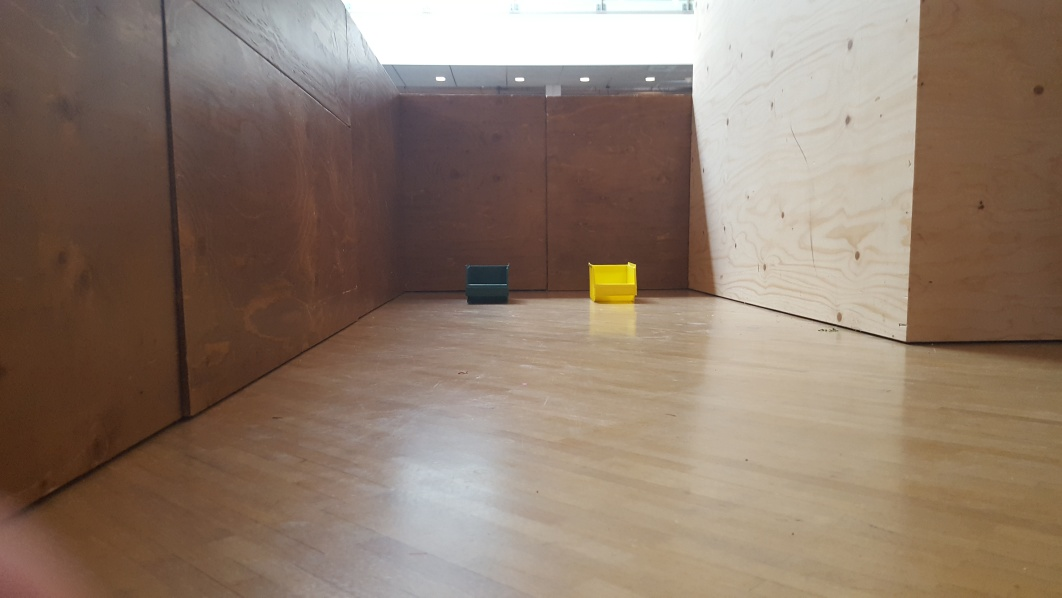tray: (583, 257, 646, 306), (460, 262, 512, 304)
